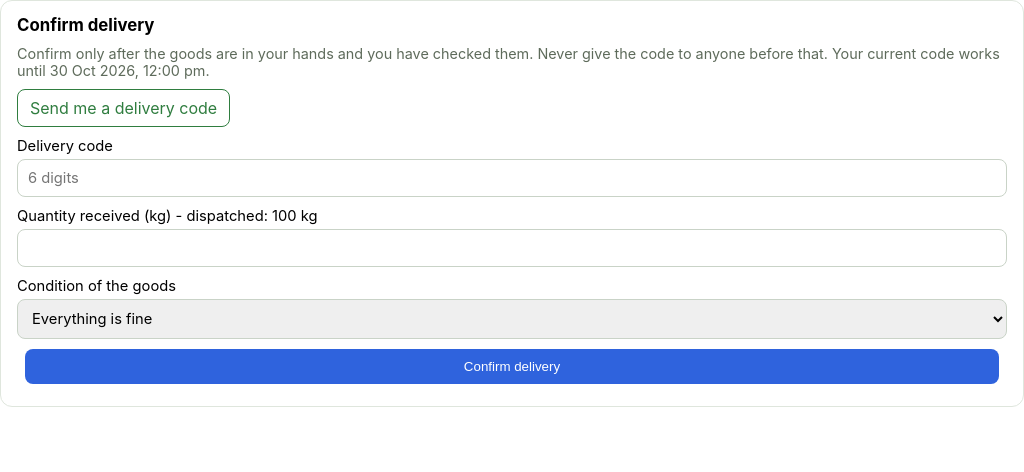
Scenario: in development mode the code is shown with a clear warning
Click the button "Send me a delivery code" at (124, 108), box [17, 89, 230, 127]
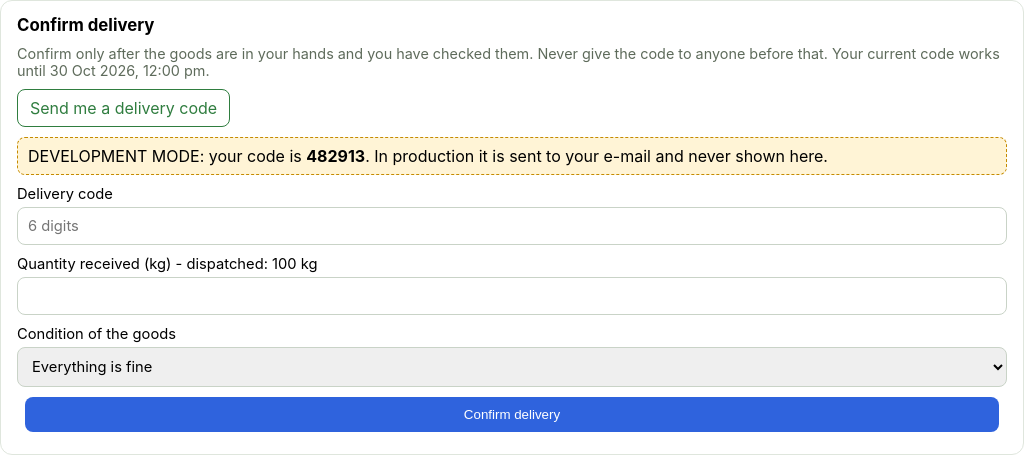
Expected: the text "DEVELOPMENT MODE" is shown, [28, 146, 306, 166]
Expected: the text "482913" is shown, [306, 146, 365, 166]
